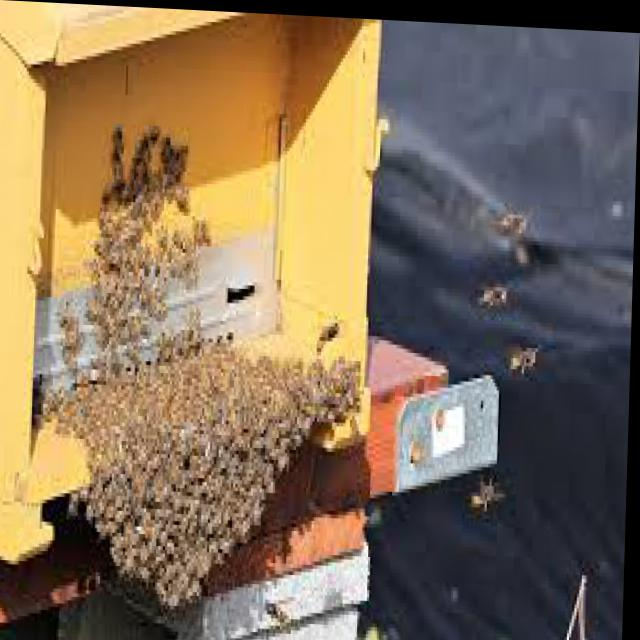Vespa Velutina: (469, 464, 512, 509), (263, 588, 301, 629), (507, 333, 544, 374), (493, 201, 530, 232), (477, 279, 512, 306)
